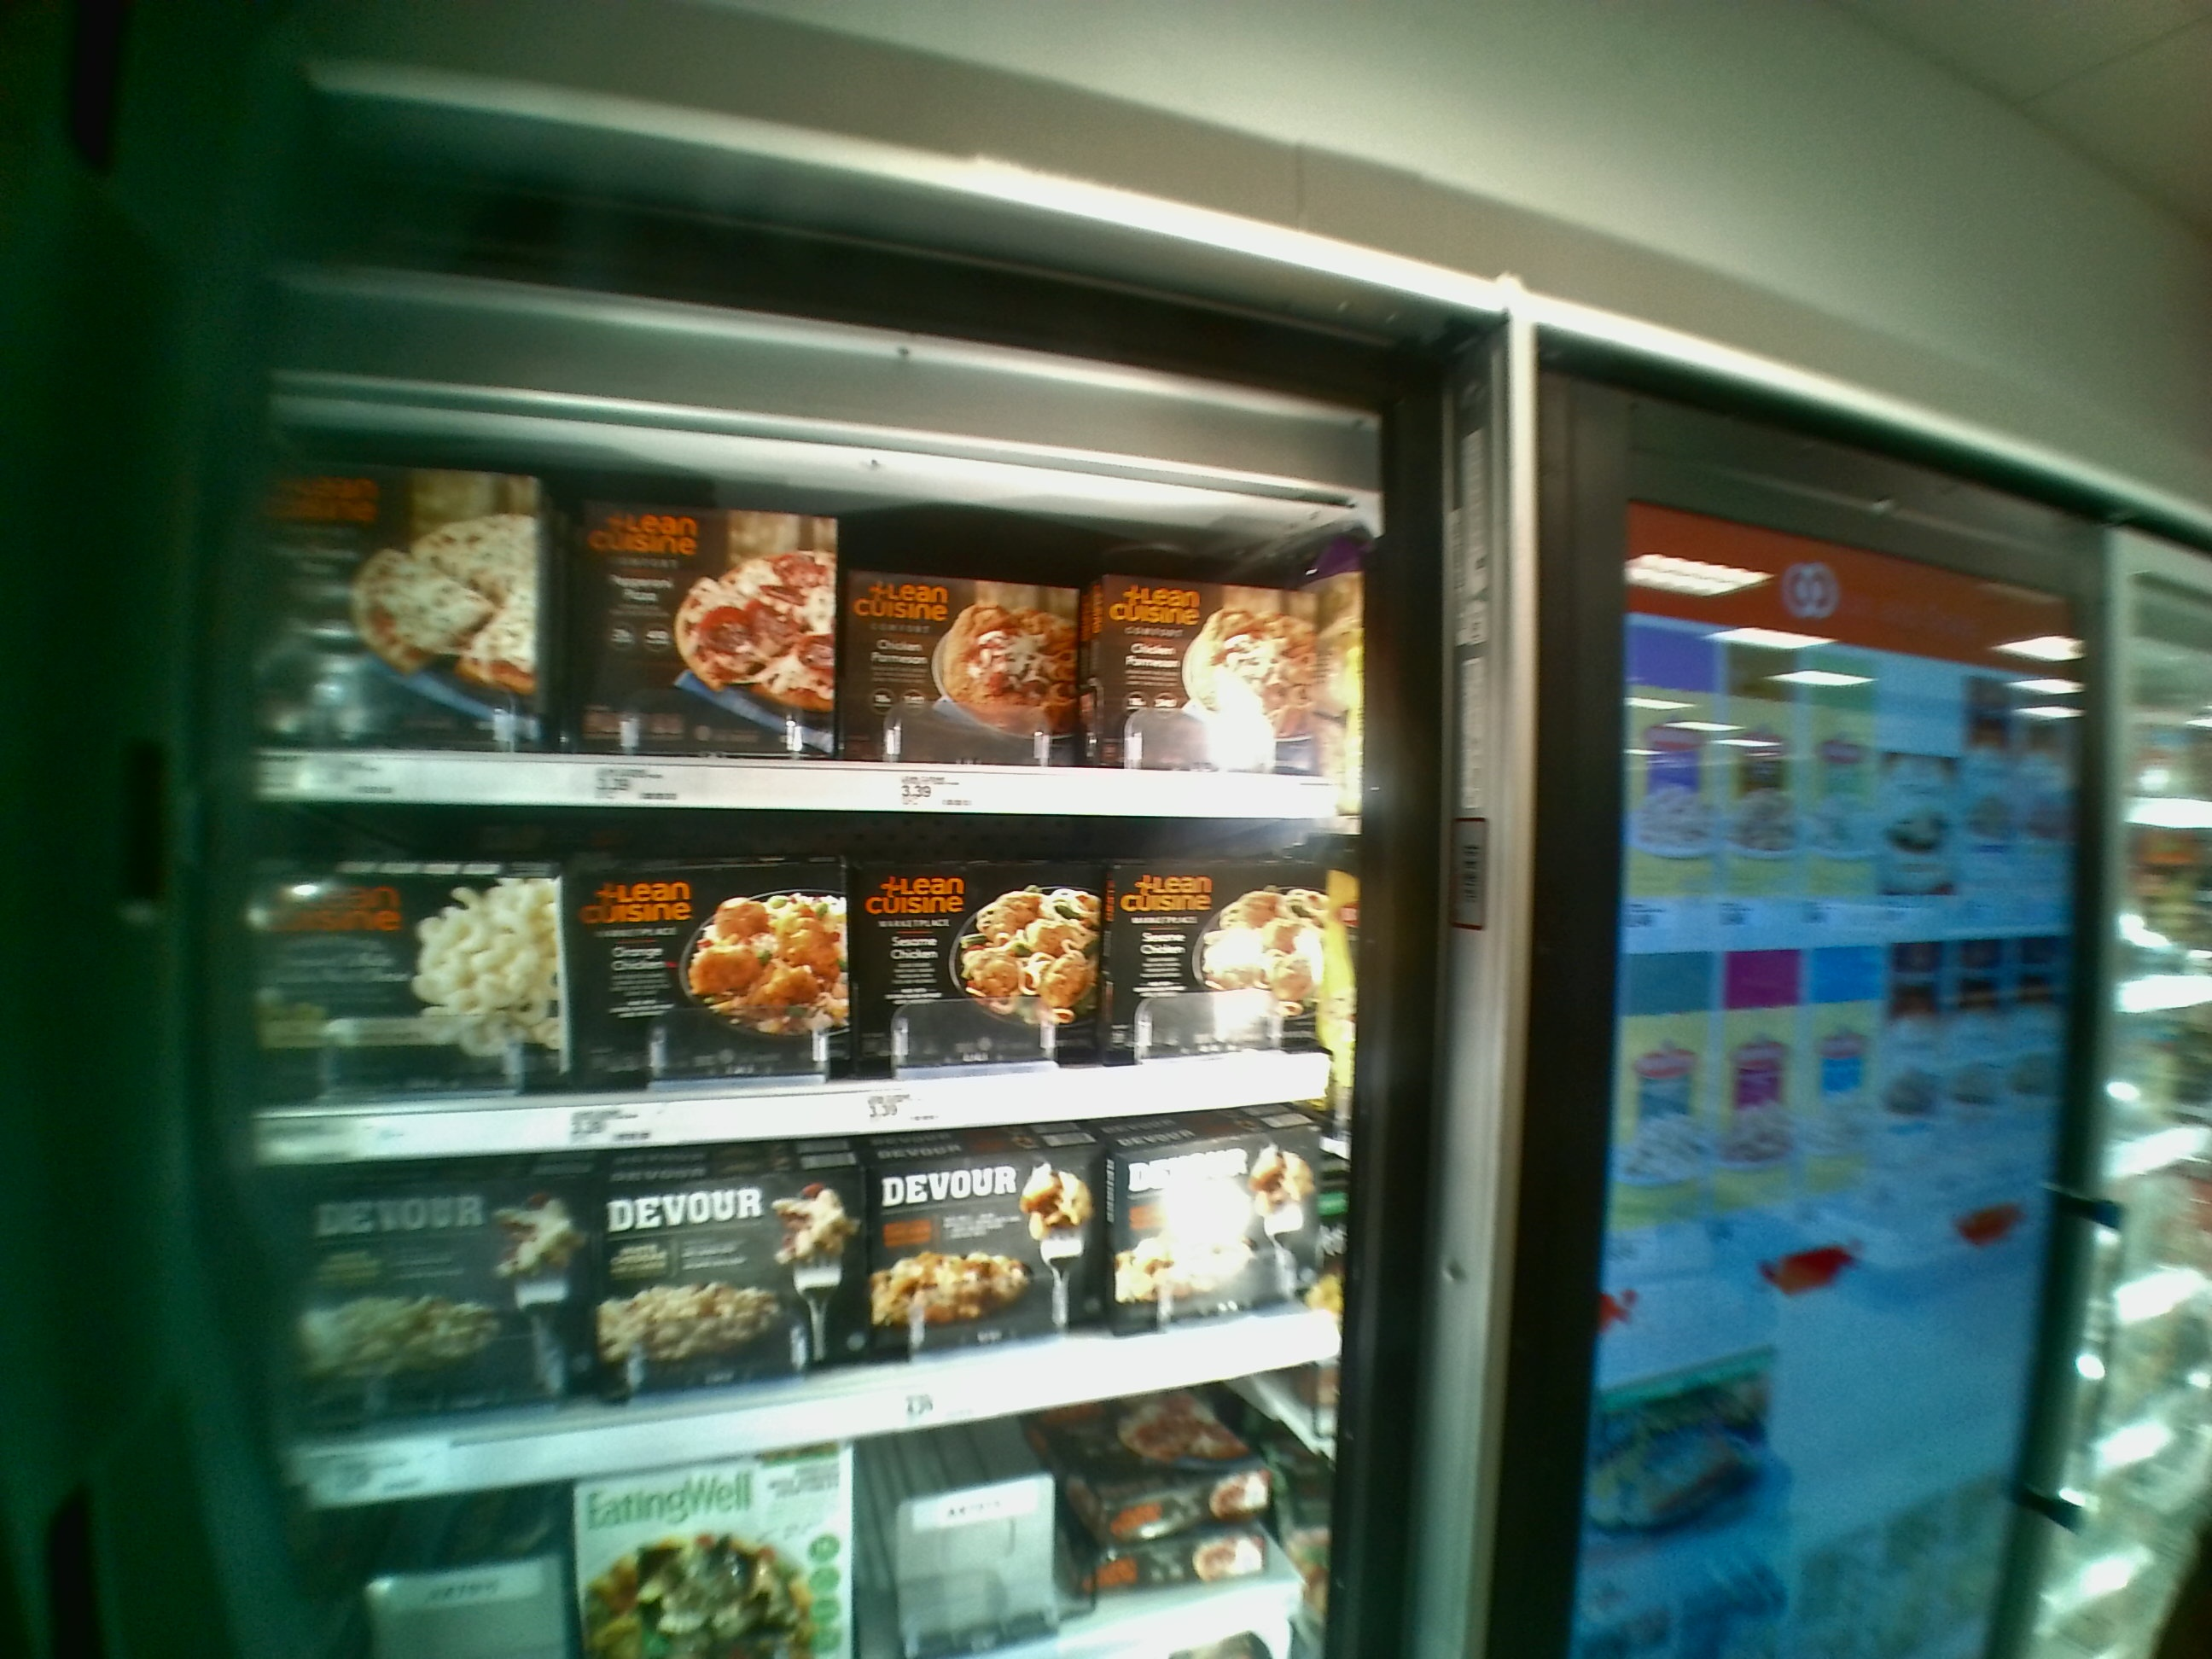shelf: (254, 385, 1353, 817), (256, 802, 1355, 1171)
